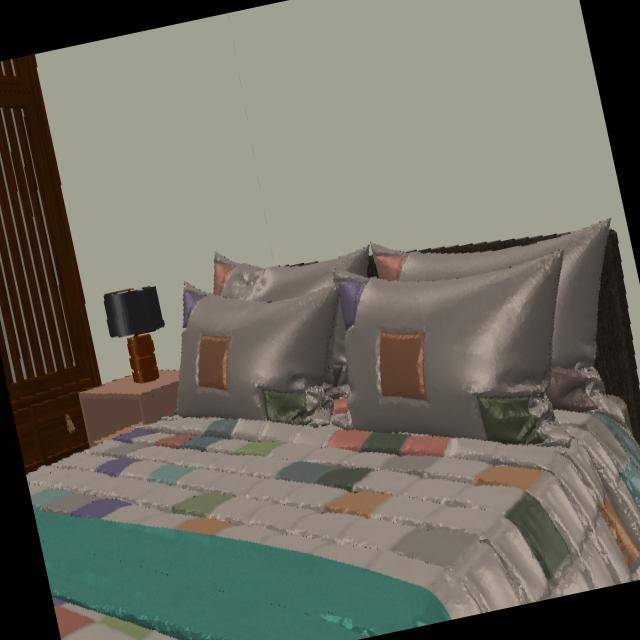bed: (26, 231, 640, 640), (414, 233, 569, 255)
lamp: (104, 287, 166, 383)
nighttable: (79, 371, 180, 446)
pillow: (369, 219, 621, 413), (333, 251, 572, 448), (176, 282, 339, 427), (213, 246, 369, 303), (323, 300, 346, 386)
wardrobe: (0, 54, 102, 471)
